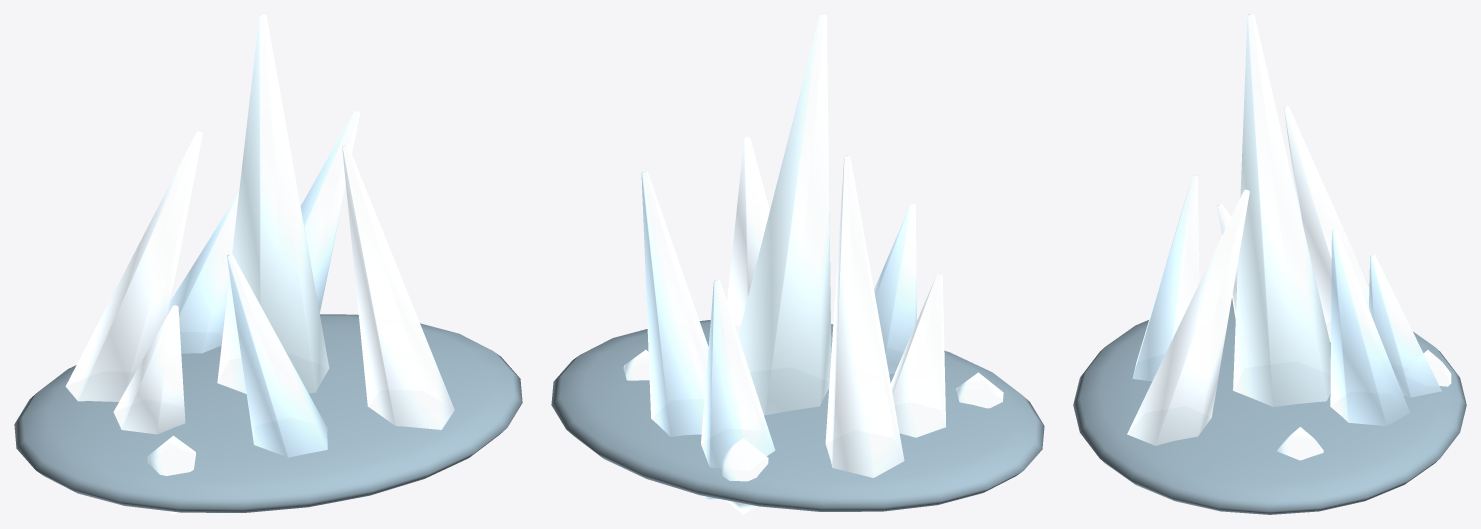
The model's file is e_mineral.glb.
3 renders of one model, left to right at view 1: azimuth 30°, elevation 25°; view 2: azimuth 150°, elevation 25°; view 3: azimuth 270°, elevation 25°, orthographic. The views are drawn at different scales.
Visible parts, largest first — view 1: em_base.006, em_c0.006, em_c4.006, em_c2.006, em_c3.006, em_c6.006, em_c5.006, em_c1.006, em_d2.006; view 2: em_base.006, em_c0.006, em_c2.006, em_c1.006, em_c5.006, em_c6.006, em_c3.006, em_c4.006, em_d1.006, em_d2.006, em_d0.006; view 3: em_base.006, em_c0.006, em_c4.006, em_c1.006, em_c3.006, em_c2.006, em_c5.006, em_d0.006, em_d1.006.
Boxes of the visible parts, x1,y1,x2,y2 form: em_base.006: [14, 314, 522, 512]; em_c0.006: [217, 14, 329, 393]; em_c4.006: [342, 145, 454, 429]; em_c2.006: [65, 131, 202, 401]; em_c3.006: [227, 254, 327, 457]; em_c6.006: [113, 305, 185, 434]; em_c5.006: [168, 192, 238, 353]; em_c1.006: [300, 110, 360, 313]; em_d2.006: [147, 435, 195, 514]; em_base.006: [551, 320, 1044, 511]; em_c0.006: [738, 14, 831, 415]; em_c2.006: [825, 155, 904, 477]; em_c1.006: [641, 171, 708, 436]; em_c5.006: [701, 279, 775, 499]; em_c6.006: [890, 274, 946, 437]; em_c3.006: [874, 203, 916, 374]; em_c4.006: [727, 137, 769, 335]; em_d1.006: [721, 438, 768, 514]; em_d2.006: [956, 372, 1003, 408]; em_d0.006: [623, 350, 649, 380]; em_base.006: [1073, 298, 1466, 514]; em_c0.006: [1233, 14, 1330, 406]; em_c4.006: [1127, 189, 1249, 445]; em_c1.006: [1330, 229, 1409, 425]; em_c3.006: [1132, 175, 1199, 381]; em_c2.006: [1284, 106, 1369, 342]; em_c5.006: [1369, 254, 1441, 397]; em_d0.006: [1277, 427, 1323, 460]; em_d1.006: [1423, 350, 1451, 386].
Size of the model in its own units: 1.66 by 1.51 by 1.3.
